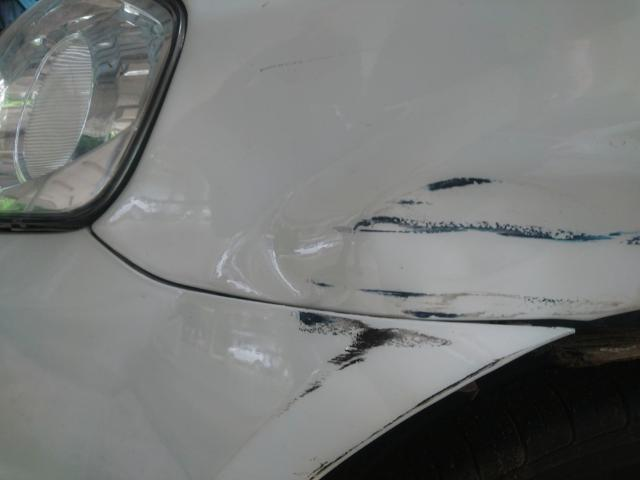dent: (122, 51, 448, 303)
scratch: (352, 167, 640, 320), (270, 305, 459, 423)
